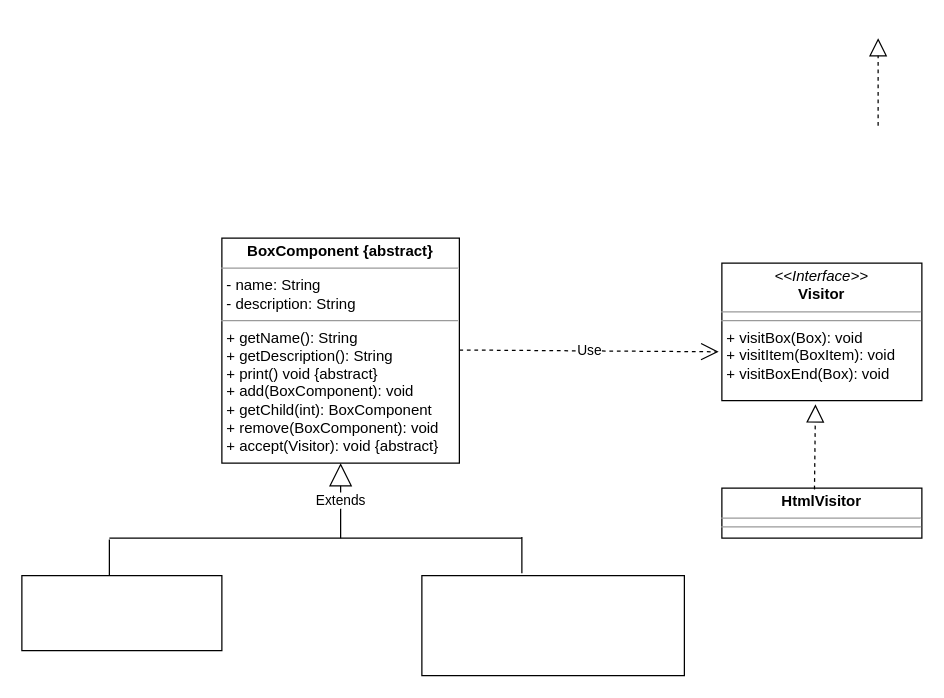
Some shapes in this 944 by 698 pixel diagram are drawn without their labels. Here are the shapes that lost their labels. From the top down, the centre of each, then its label:
At point 121,612: "BoxItem + print(): void".
At point 552,625: "Box - components: List<BoxComponent> + print(): void".
